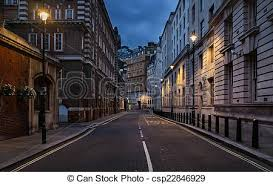strada: (103, 108, 250, 170)
